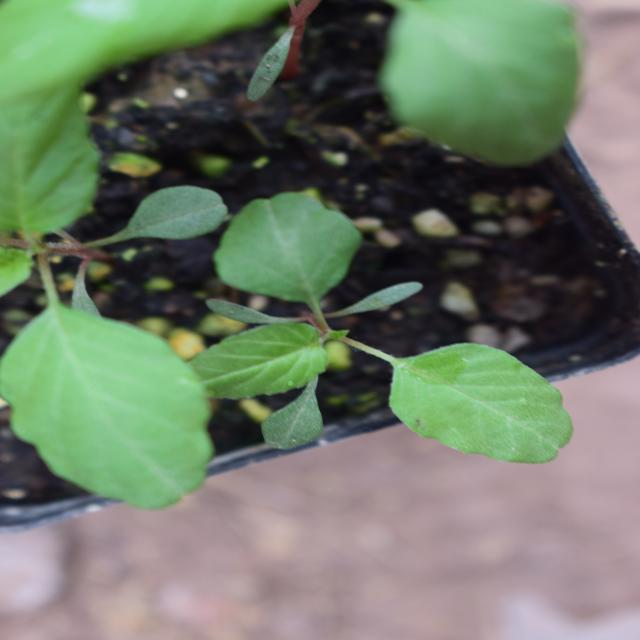pigweed: (158, 195, 468, 558)
